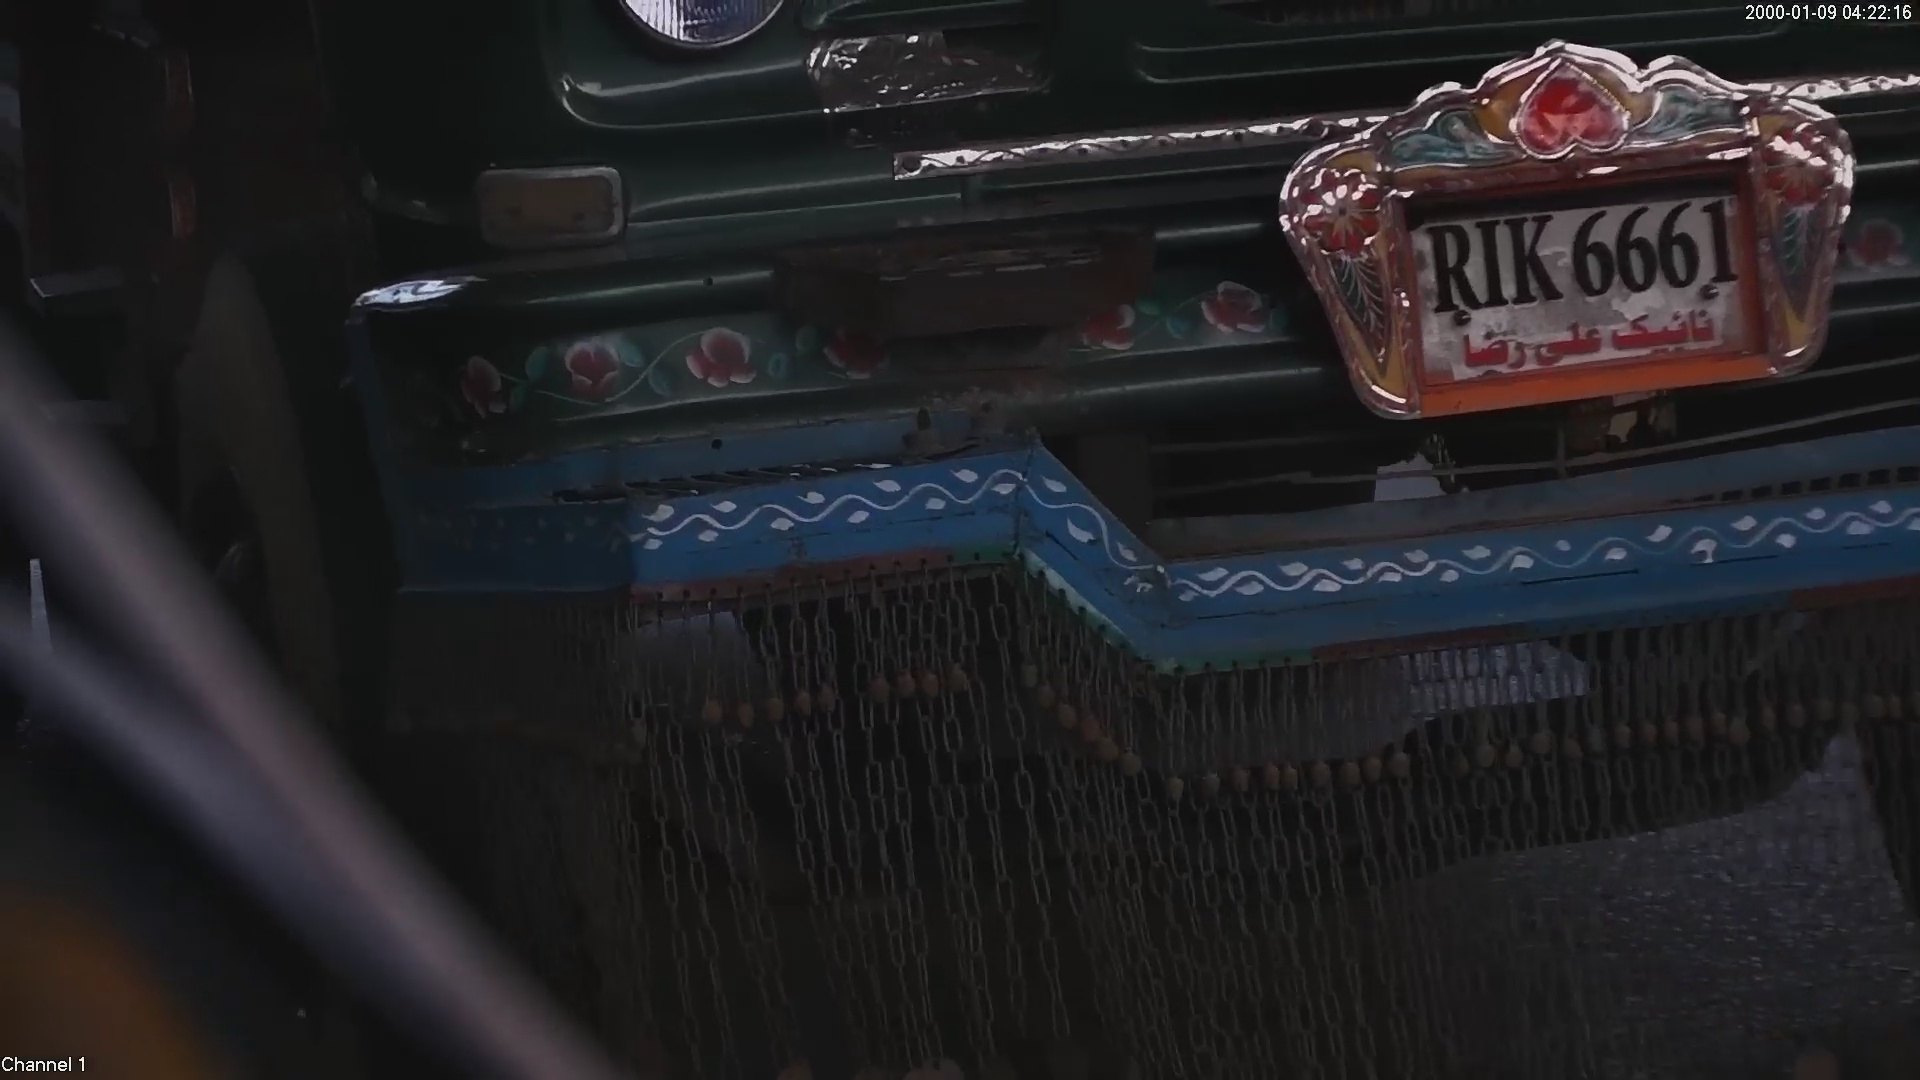Number_Plate: (1347, 183, 1793, 407)
